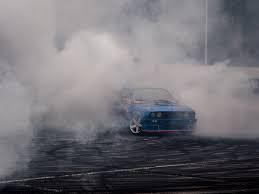smoke: (0, 0, 259, 178)
